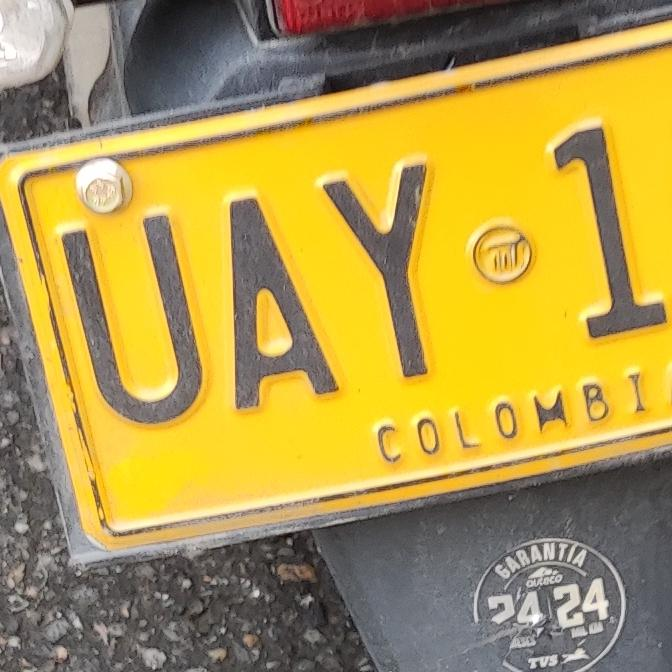plates: (0, 14, 672, 570)
